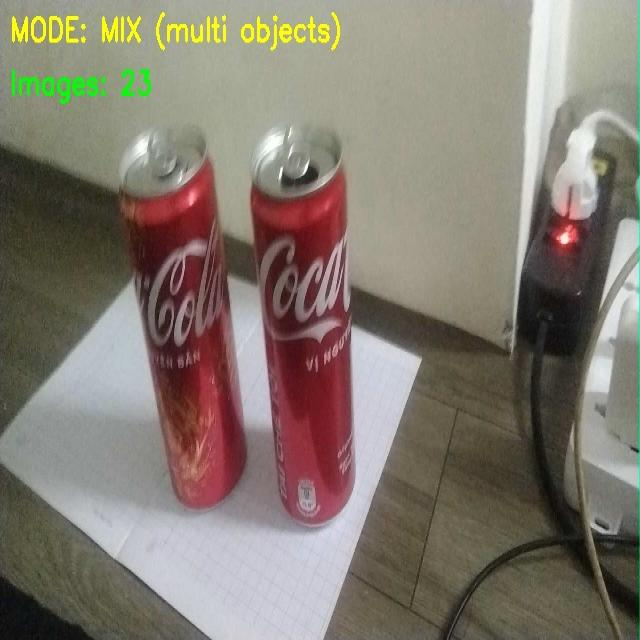Coca: (99, 104, 253, 516)
Coca_open: (256, 115, 390, 527)
